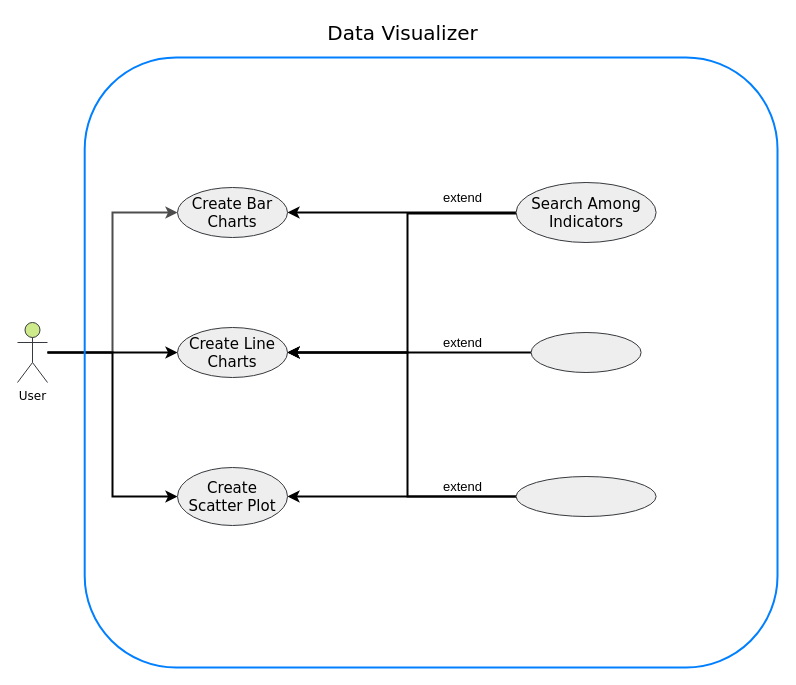
The diagram is 796 pixels wide and 685 high, and some of its shapes have lost their labels. The shapes that lost their labels are listed below. From the top down, each one's box as (x1, y1, x2, y2) in pixels, then its label:
(530, 332, 641, 372): Filter Years
(515, 476, 656, 516): Aggregate Years
